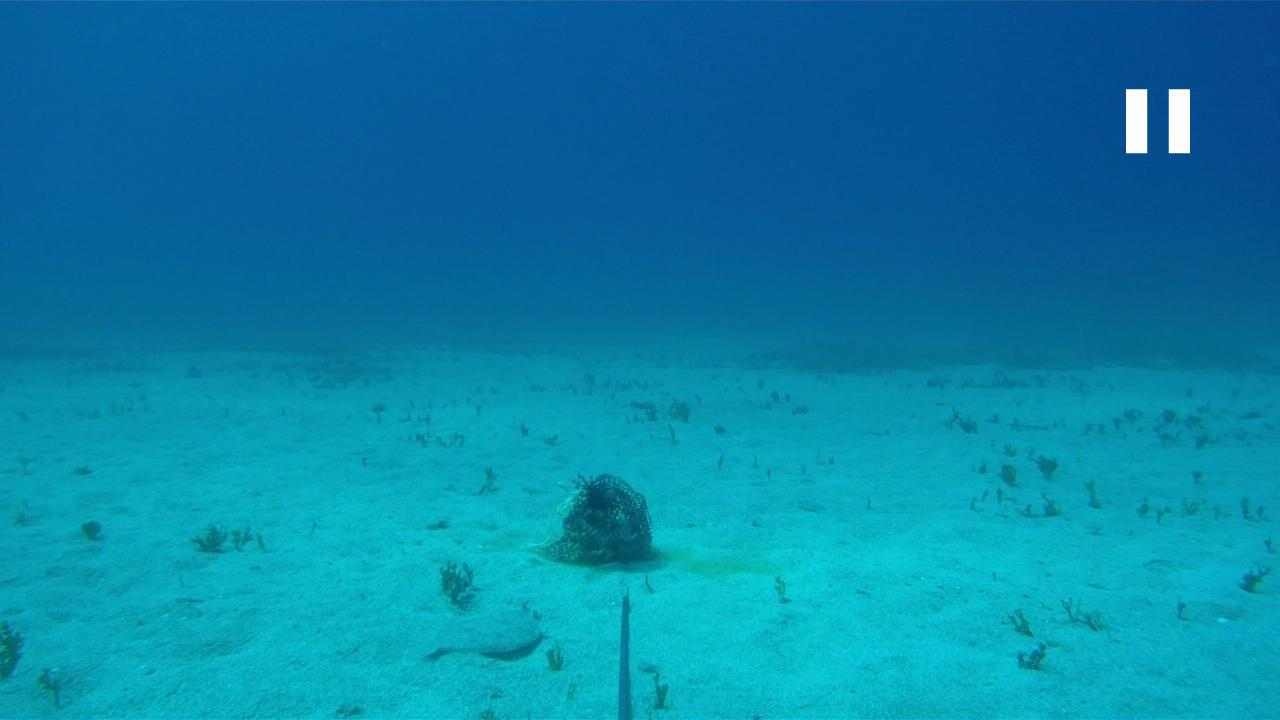bothus: (411, 600, 545, 665)
